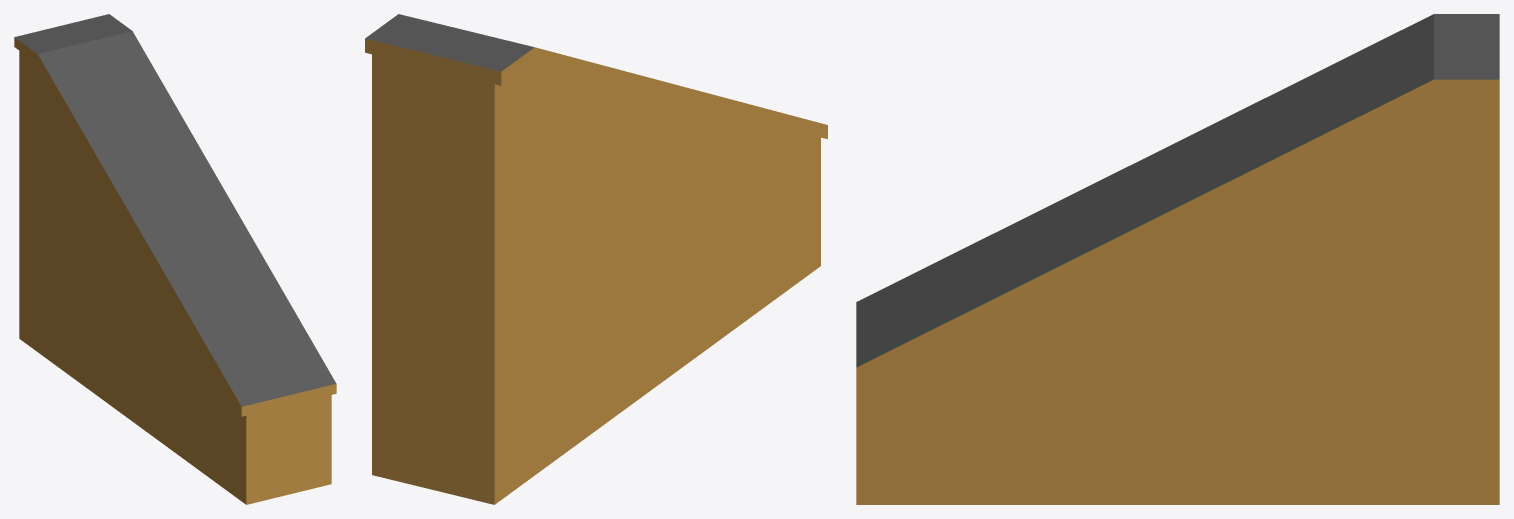
Rendered from Skate_Slide_Rail_Thick_Double_Filled_01.FBX.
The picture shows the model from 3 angles, left to right: view 1: azimuth 30°, elevation 25°; view 2: azimuth 150°, elevation 25°; view 3: azimuth 270°, elevation 25°; orthographic projection. The views are drawn at different scales.
Visible parts, largest first — view 1: Skate_Slide_Rail_Thick_Double_Filled_01; view 2: Skate_Slide_Rail_Thick_Double_Filled_01; view 3: Skate_Slide_Rail_Thick_Double_Filled_01.
Boxes of the visible parts, bbox=[...] form: Skate_Slide_Rail_Thick_Double_Filled_01: bbox=[14, 14, 336, 504]; Skate_Slide_Rail_Thick_Double_Filled_01: bbox=[365, 14, 827, 504]; Skate_Slide_Rail_Thick_Double_Filled_01: bbox=[856, 14, 1499, 504].
Size of the model in its own units: 0.7229 by 2.2 by 3.
